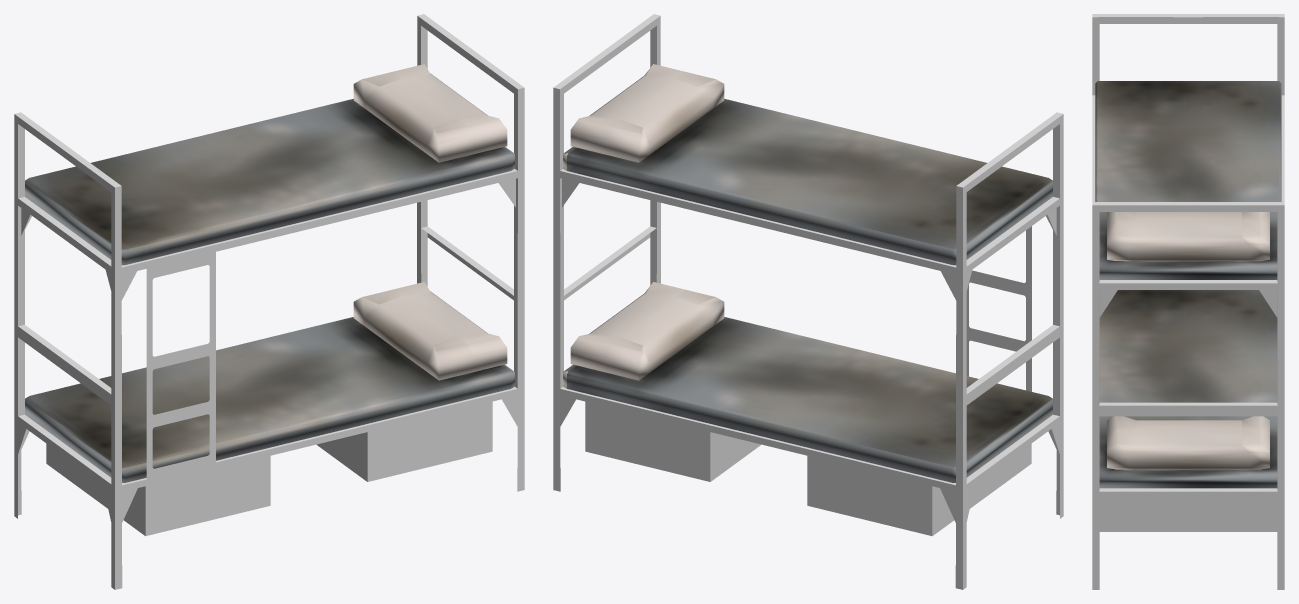
Rendered from Prison_Bunk_01.fbx.
3 views of the same model, side by side, from view 1: azimuth 30°, elevation 25°; view 2: azimuth 150°, elevation 25°; view 3: azimuth 270°, elevation 25° (orthographic). The views are drawn at different scales.
Parts seen in each view (by area): view 1: Cube.002, Cube; view 2: Cube.002, Cube; view 3: Cube.002, Cube.
Part boxes in pixels (x1=…): Cube.002: x1=25, y1=64, x2=514, y2=482; Cube: x1=14, y1=14, x2=524, y2=589; Cube.002: x1=563, y1=64, x2=1052, y2=482; Cube: x1=553, y1=14, x2=1063, y2=589; Cube.002: x1=1095, y1=81, x2=1281, y2=488; Cube: x1=1092, y1=14, x2=1284, y2=589.
Size of the model in its own units: 191 by 179 by 81.09.
